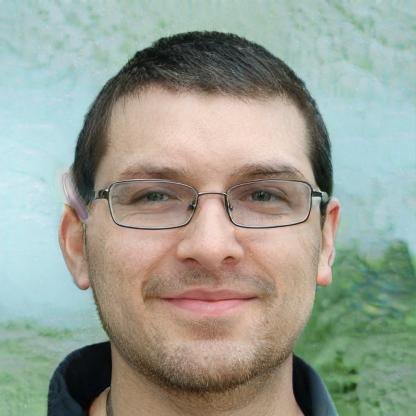glasses: (100, 175, 314, 230)
